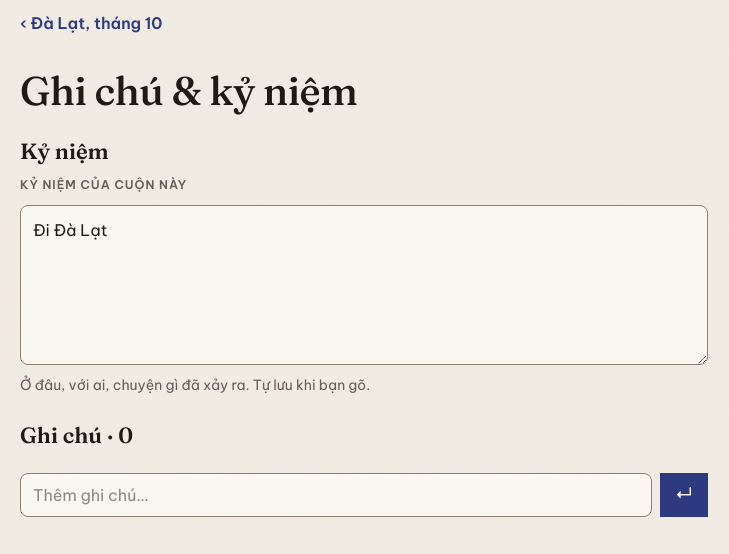
Test case: NotesMemory (NOTE-1, NotesMemory board) › keeps the text and says so when the save fails
Step 1. Type "!" into the text box labelled "Kỷ niệm của cuộn này" → (364, 285), box [20,205,708,365]
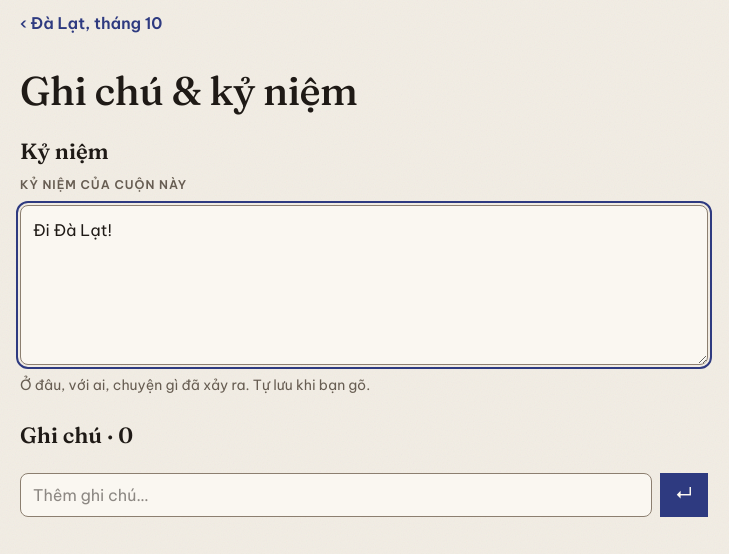
Step 2. Press Tab
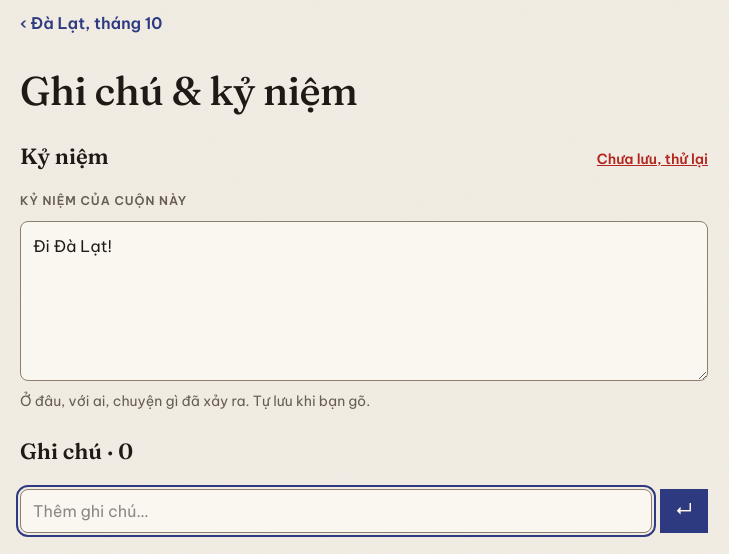
Expected: the text box labelled "Kỷ niệm của cuộn này" holds "Đi Đà Lạt!", [20,221,708,381]
Expected: the button "Chưa lưu, thử lại" is shown, [597,137,708,181]
